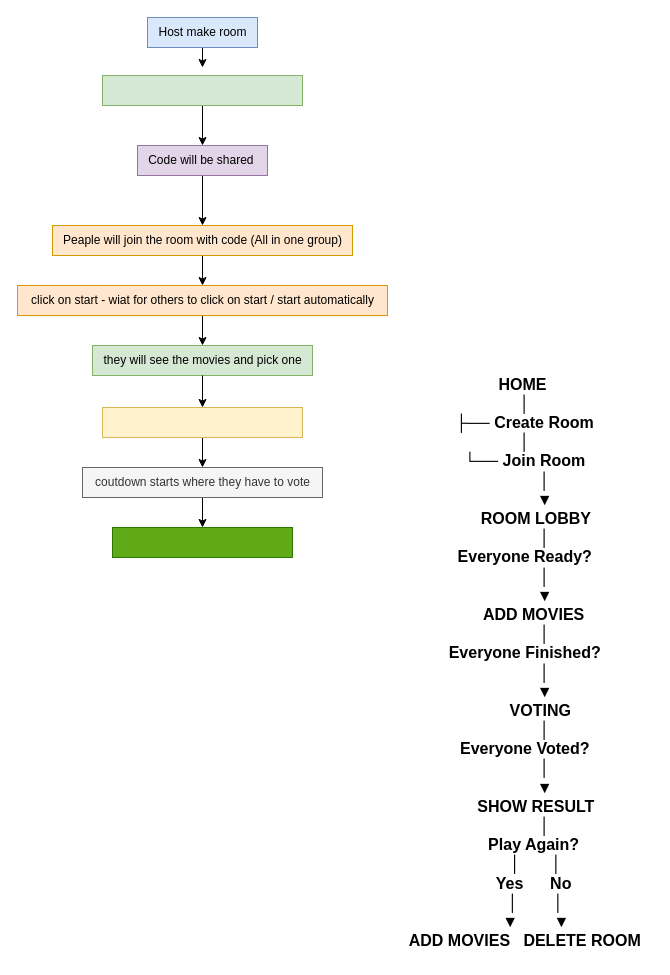
Image size: 670x975. Some labels were removed from this diagram. The centre of each missing label's shape, as x and y in pixels:
"Code will be genrated(unique Id)" goes at point (202, 90).
"If evryone is done choosing movie" goes at point (202, 422).
"Movie with max vote will win" goes at point (202, 542).
